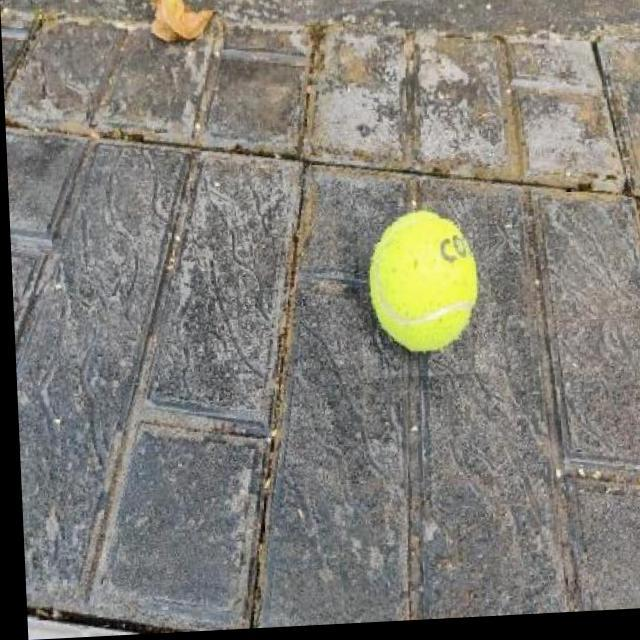-: (354, 204, 491, 382)
